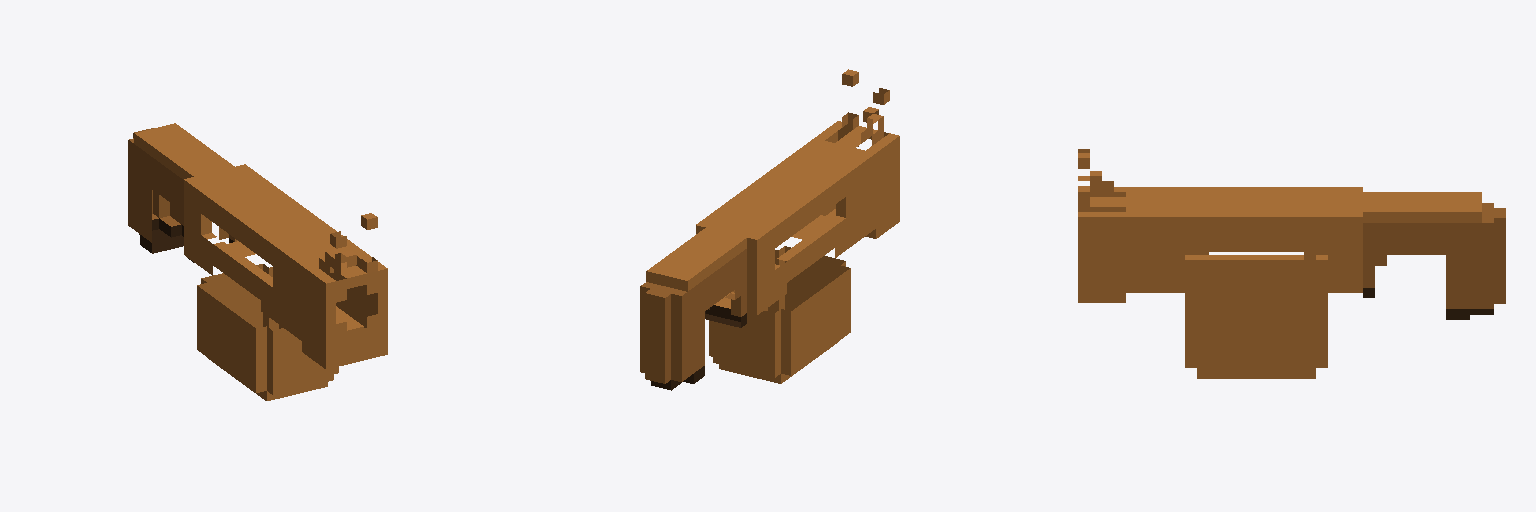
3 renders of one model, left to right at view 1: azimuth 30°, elevation 25°; view 2: azimuth 150°, elevation 25°; view 3: azimuth 270°, elevation 25°, orthographic.
Visible parts, largest first — view 1: JunkGun; view 2: JunkGun; view 3: JunkGun.
Part boxes in pixels (x1,y1,x2,y2): JunkGun: (128,123,387,400); JunkGun: (640,69,899,390); JunkGun: (1078,149,1505,378).
Bounding box in the file's own units: 12 × 20 × 38.
1 materials, 1 textured.